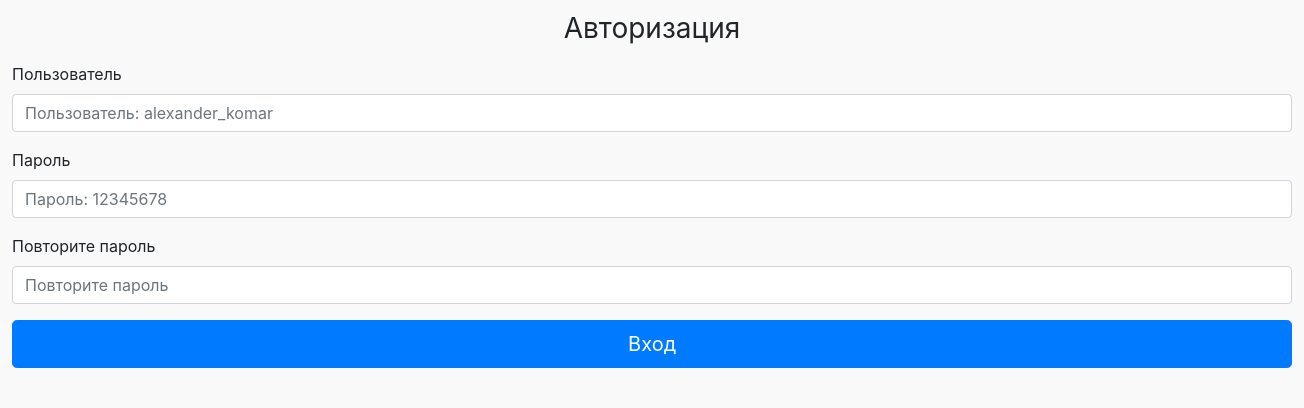
Test case: LoginForm › should change input
Type "test" into the field named "username" at (652, 113), box x1=12 y1=94 x2=1292 y2=132
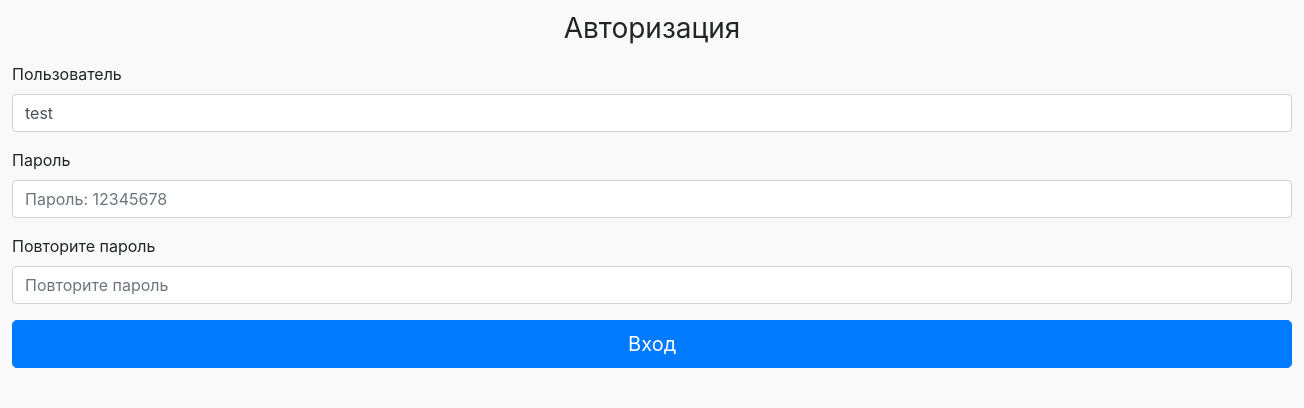
Leave the field named "username", box x1=12 y1=94 x2=1292 y2=132
Clear the field named "username" at (652, 113), box x1=12 y1=94 x2=1292 y2=132
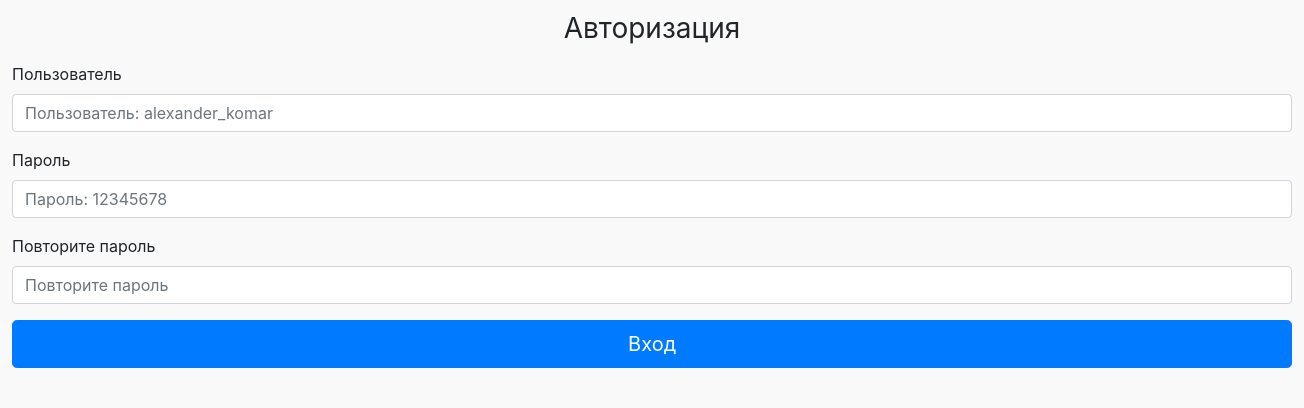
Leave the field named "username", box x1=12 y1=94 x2=1292 y2=132
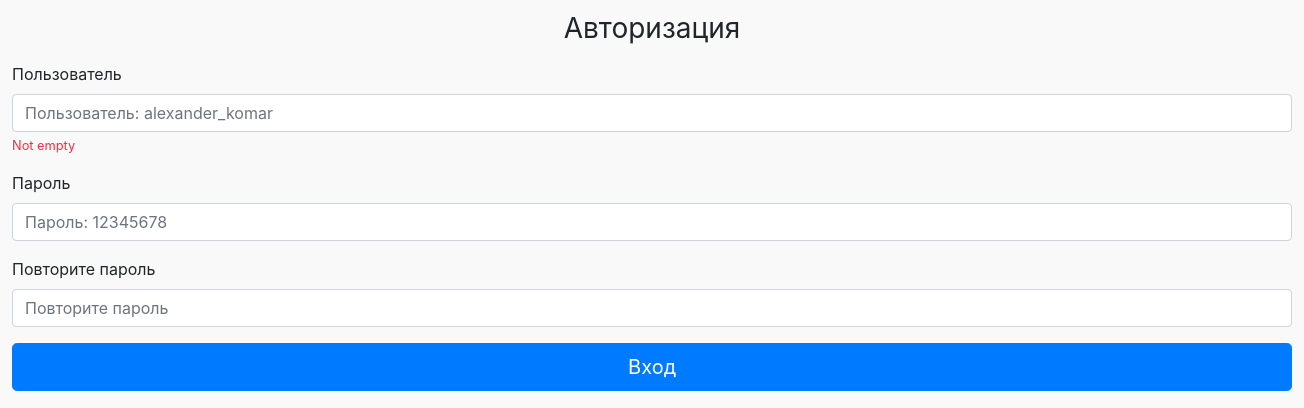
Expected: the number of elements with class "invalid-feedback" is 1, x1=12 y1=138 x2=75 y2=153
